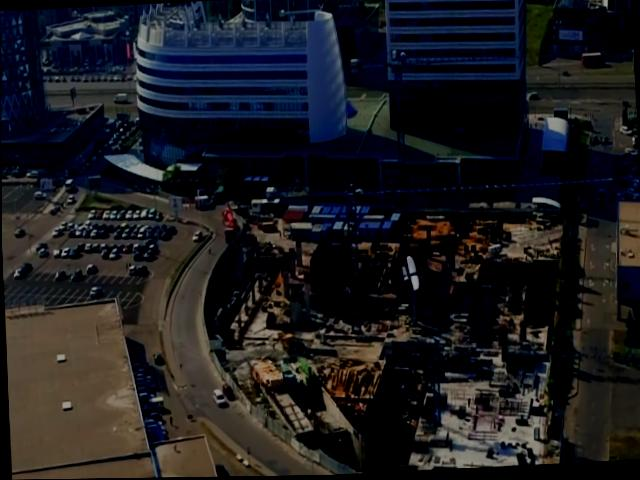plane: (401, 255, 427, 293)
